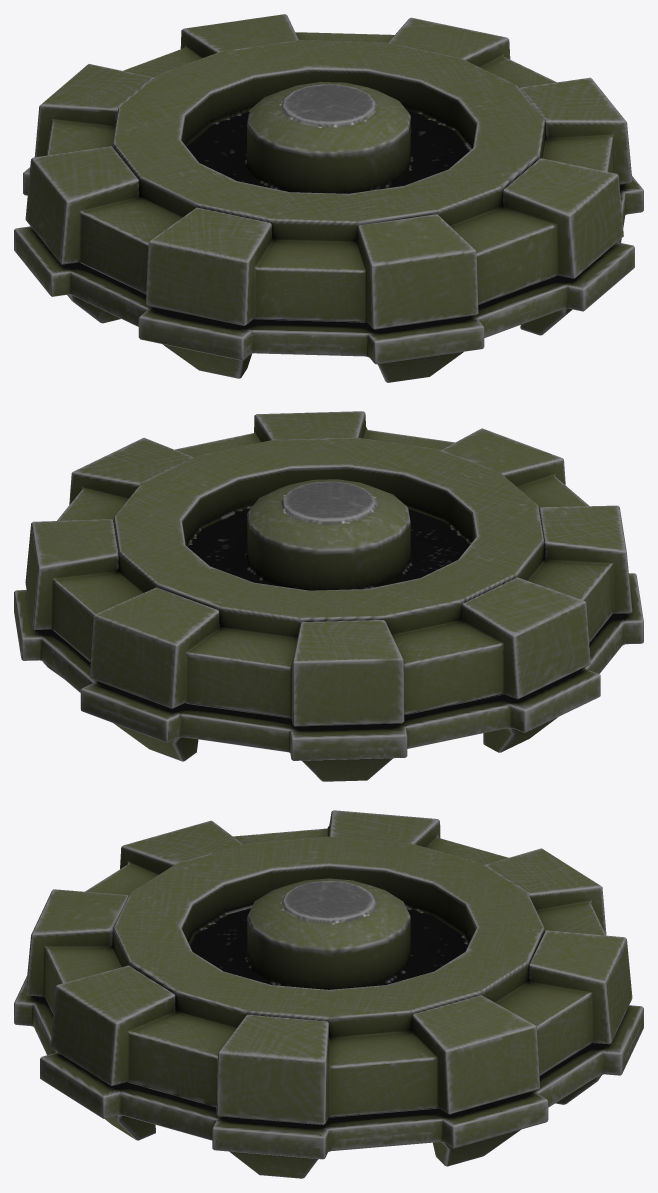
File: SM_Trap_ExplosiveMine.fbx
The picture shows the model from 3 angles, top to bottom: view 1: azimuth 30°, elevation 25°; view 2: azimuth 150°, elevation 25°; view 3: azimuth 270°, elevation 25°; orthographic projection.
Visible parts, largest first — view 1: ExplosiveMine; view 2: ExplosiveMine; view 3: ExplosiveMine.
Boxes of the visible parts, x1,y1,x2,y2 form: ExplosiveMine: [14, 14, 643, 382]; ExplosiveMine: [14, 411, 643, 781]; ExplosiveMine: [14, 810, 643, 1178].
Bounding box in the file's own units: 38.29 × 38.29 × 11.84.
1 material, 1 textured.
